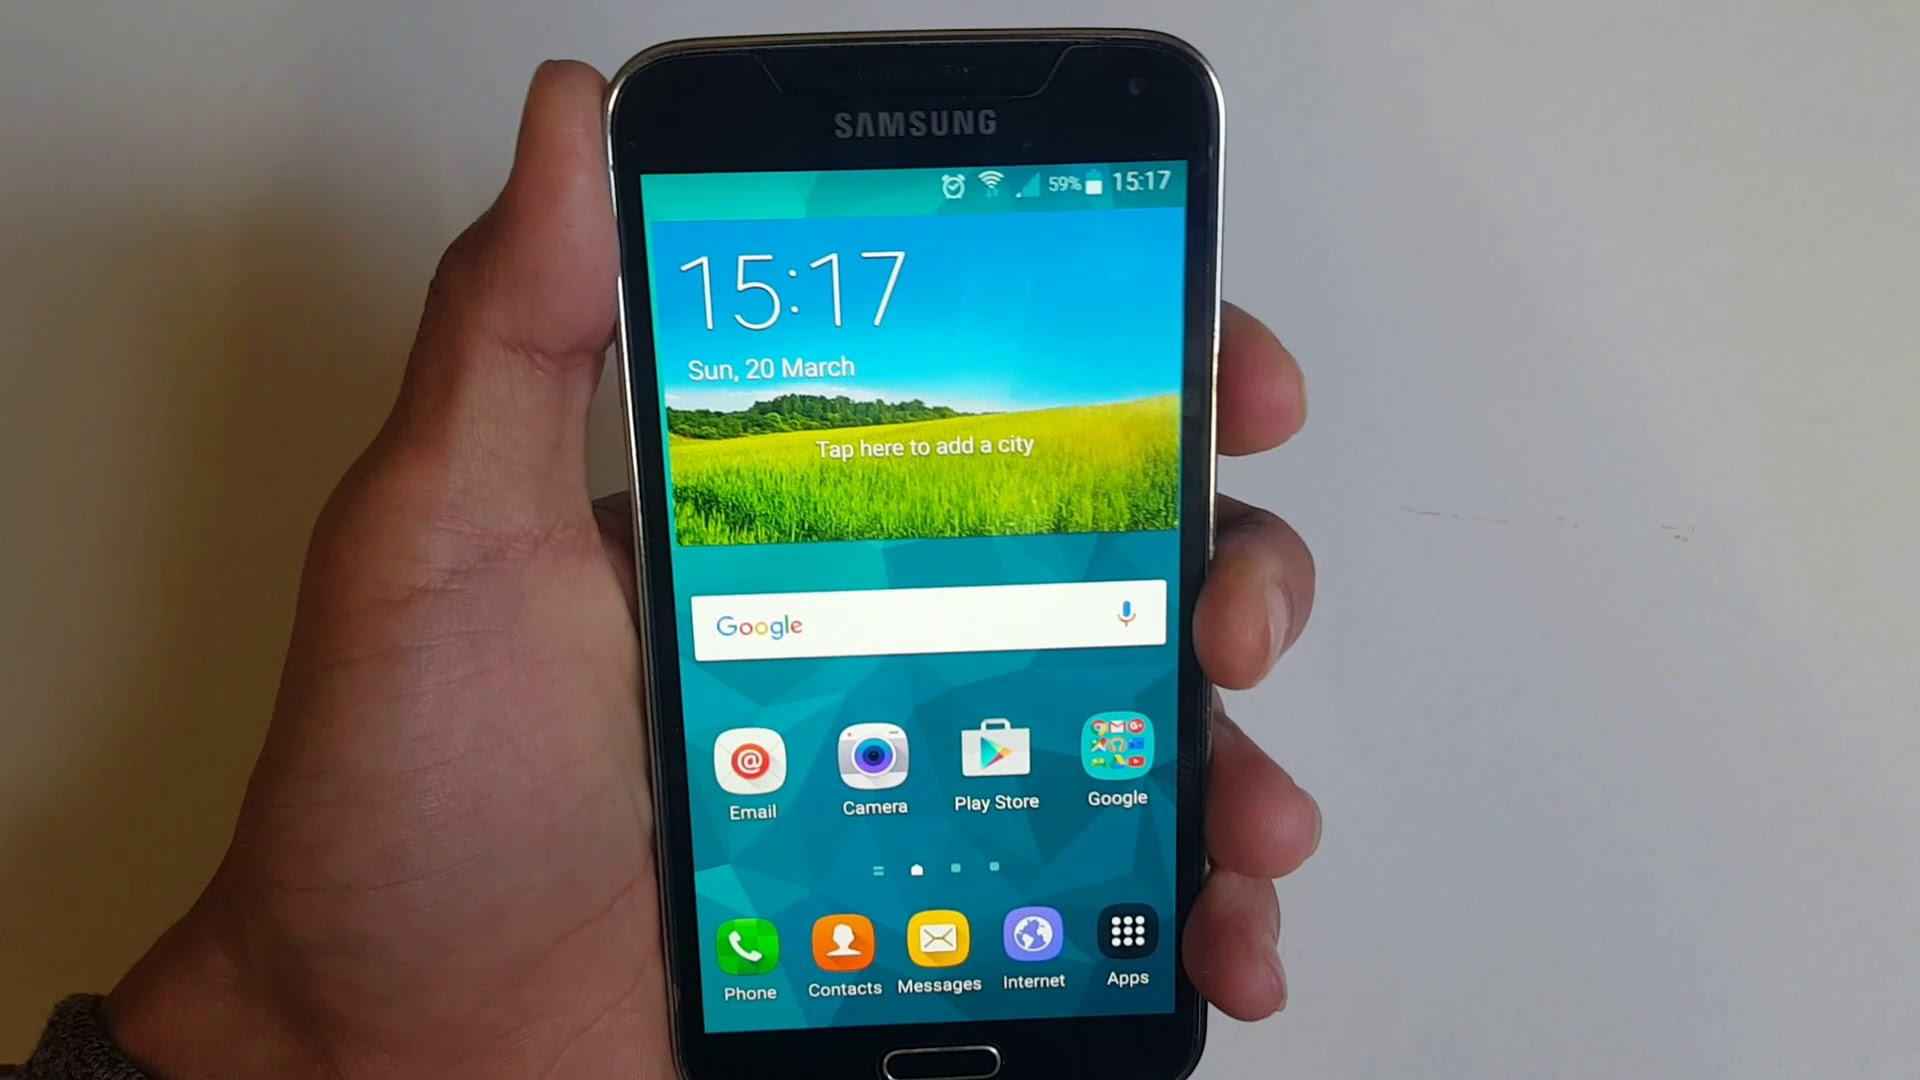smartphone: (601, 25, 1225, 1080)
